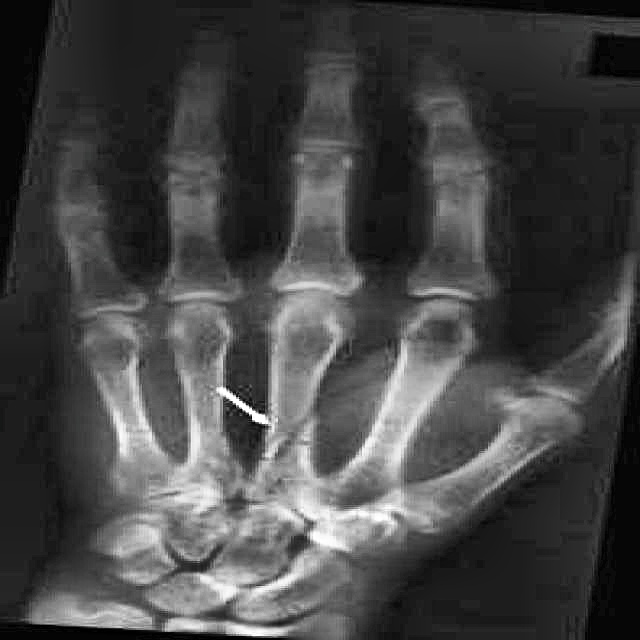Oblique Displaced: (248, 384, 345, 484)
